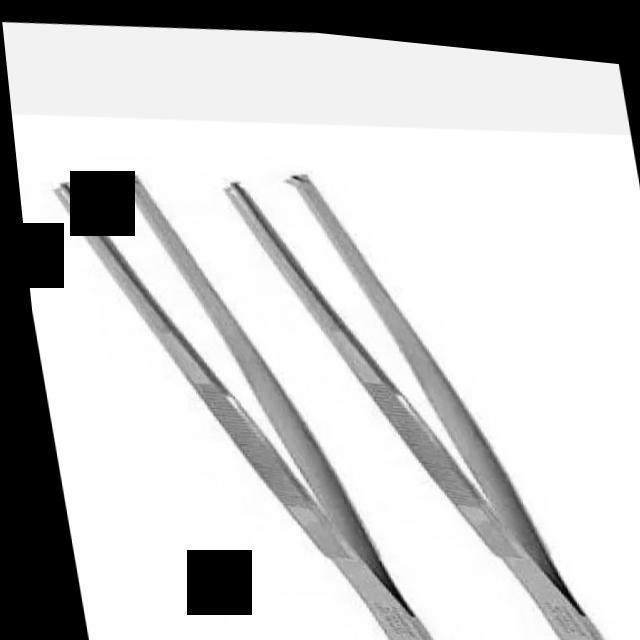Disscting Forceps -tooth-: (41, 112, 438, 640), (212, 144, 602, 640)
